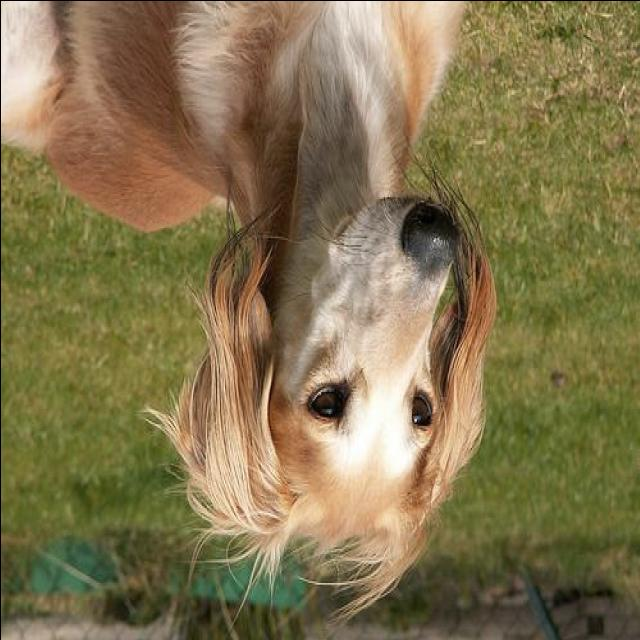saluki: (0, 2, 497, 620)
